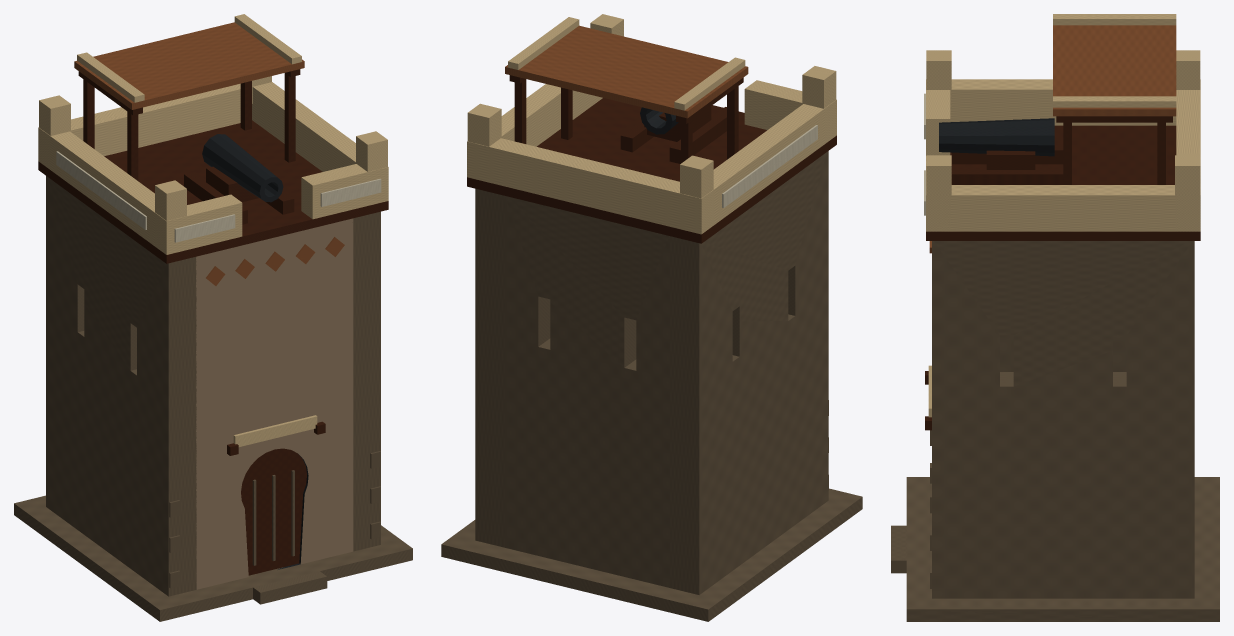
The model's file is Berber_Outpost_Age4_cannon_stone.fbx.
3 views of the same model, side by side, from view 1: azimuth 30°, elevation 25°; view 2: azimuth 150°, elevation 25°; view 3: azimuth 270°, elevation 25° (orthographic). The views are drawn at different scales.
Visible parts, largest first — view 1: fortified_stone_side, fortified_stone_face, lookout_floor, tower_foundation, fitted_flat_canopy, fortified_stone_side.001, lookout_parapet_back, horseshoe_door.001, lookout_parapet_side.001, lookout_parapet_side, lookout_parapet_front.001, lookout_parapet_front (+17 smaller); view 2: fortified_stone_face.001, fortified_stone_side, tower_foundation, lookout_parapet_back, fitted_flat_canopy, fortified_stone_side.001, lookout_floor, lookout_parapet_side, lookout_parapet_side.001, lookout_parapet_front, neutral_owner_side_band, corner_merlon.003 (+11 smaller); view 3: fortified_stone_side.001, tower_foundation, lookout_parapet_side.001, fitted_flat_canopy, lookout_floor, lookout_parapet_side, cannon_hollow_barrel, lookout_parapet_back, cannon_ground_skid.001, stone_crown_coping.001, stone_crown_coping, lookout_parapet_front (+12 smaller).
Boxes of the visible parts, bbox=[...] form: fortified_stone_side: bbox=[46, 176, 196, 596]; fortified_stone_face: bbox=[196, 218, 353, 589]; lookout_floor: bbox=[38, 120, 388, 263]; tower_foundation: bbox=[14, 495, 412, 621]; fitted_flat_canopy: bbox=[74, 22, 304, 109]; fortified_stone_side.001: bbox=[352, 211, 380, 551]; lookout_parapet_back: bbox=[38, 83, 240, 168]; horseshoe_door.001: bbox=[241, 448, 306, 575]; lookout_parapet_side.001: bbox=[252, 82, 355, 171]; lookout_parapet_side: bbox=[49, 131, 160, 248]; lookout_parapet_front.001: bbox=[301, 164, 388, 219]; lookout_parapet_front: bbox=[155, 194, 242, 254]; fortified_stone_face.001: bbox=[504, 196, 670, 587]; fortified_stone_side: bbox=[669, 151, 828, 594]; tower_foundation: bbox=[441, 488, 862, 621]; lookout_parapet_back: bbox=[467, 138, 713, 234]; fitted_flat_canopy: bbox=[505, 25, 748, 118]; fortified_stone_side.001: bbox=[475, 188, 504, 547]; lookout_floor: bbox=[467, 98, 836, 243]; lookout_parapet_side: bbox=[713, 104, 830, 225]; lookout_parapet_side.001: bbox=[501, 84, 602, 146]; lookout_parapet_front: bbox=[744, 80, 836, 143]; neutral_owner_side_band: bbox=[722, 125, 817, 207]; corner_merlon.003: bbox=[467, 103, 501, 146]; fortified_stone_side.001: bbox=[932, 241, 1194, 598]; tower_foundation: bbox=[906, 477, 1219, 621]; lookout_parapet_side.001: bbox=[938, 185, 1187, 231]; fitted_flat_canopy: bbox=[1053, 25, 1176, 116]; lookout_floor: bbox=[926, 125, 1200, 240]; lookout_parapet_side: bbox=[950, 79, 1176, 125]; cannon_hollow_barrel: bbox=[939, 118, 1054, 156]; lookout_parapet_back: bbox=[1176, 79, 1200, 231]; cannon_ground_skid.001: bbox=[952, 168, 1063, 184]; stone_crown_coping.001: bbox=[1053, 96, 1176, 107]; stone_crown_coping: bbox=[1053, 14, 1176, 25]; lookout_parapet_front: bbox=[926, 79, 950, 155].
Bounding box in the file's own units: 360 × 632 × 378.
Materials: 6 (6 with a texture image).
